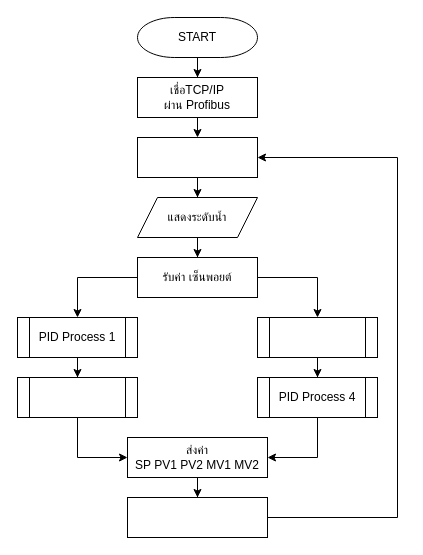
The diagram is 423 pixels wide and 555 high, and some of its shapes have lost their labels. The centre of each missing label's shape, as x and y in pixels:
"PID Process 2" belongs at point (77, 397).
"PID Process 3" belongs at point (317, 337).
"รับค่าจากเซ็นเซอร์ จากถัง 1 และ 2" belongs at point (197, 157).
"ส่งค่าไปยัง TCP/IP" belongs at point (197, 517).
